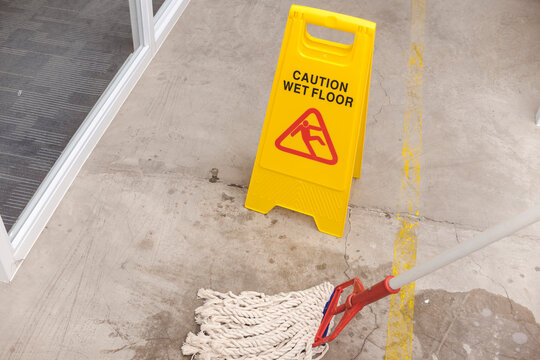wet caution sign: (252, 5, 369, 230)
